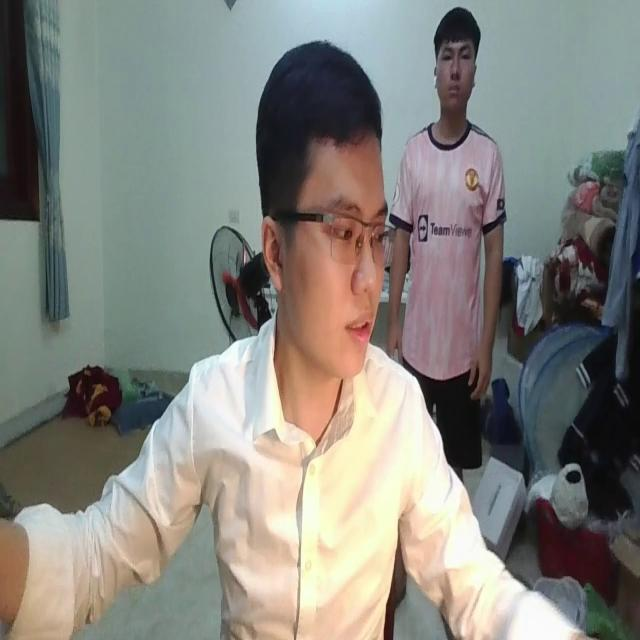extra_person: (390, 9, 510, 468)
student: (0, 43, 586, 640)
